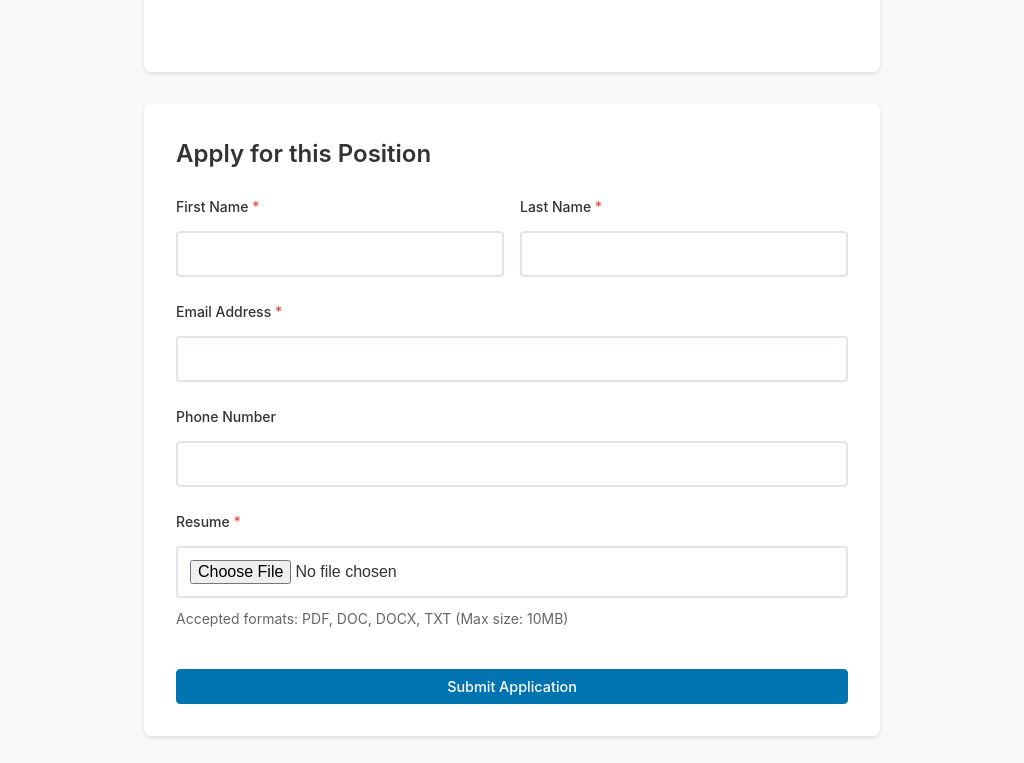
Test case: ApplicantPortal › should clear errors when user starts typing
(page scrolled)
expect the heading "Apply for this Position" is shown: met, box [176,139,431,168]
Trigger validation error
Click the button "Submit Application" at (512, 686), box [176,669,848,704]
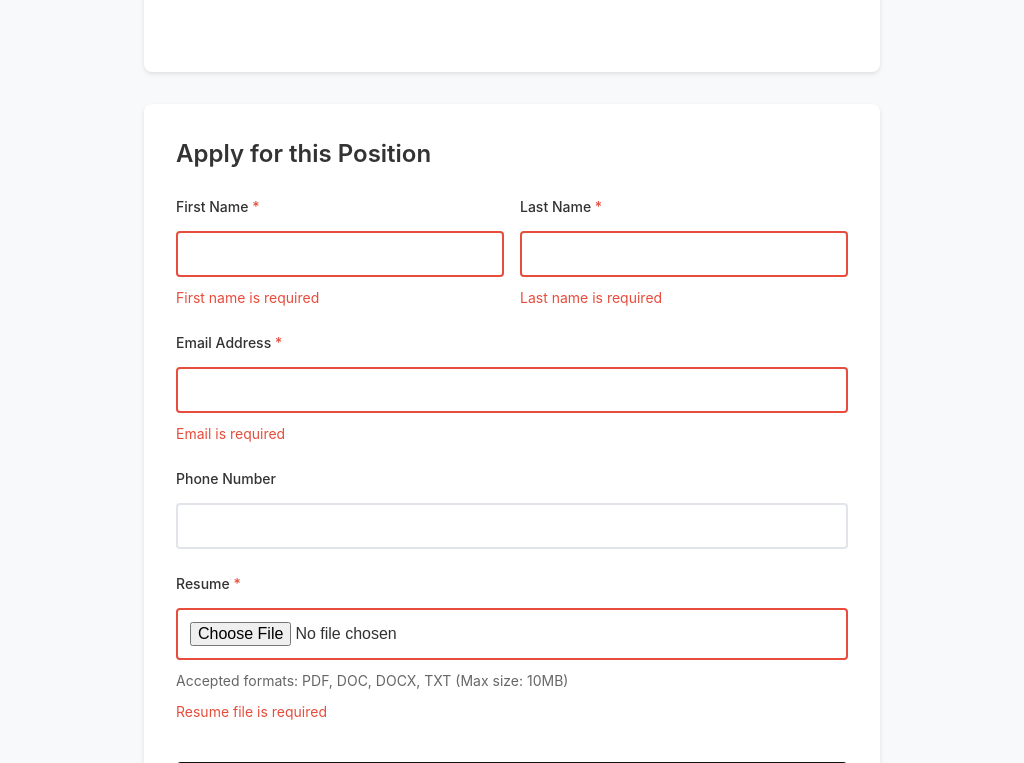
expect the text "First name is required" is shown: met, box [176,289,319,306]
Start typing to clear error
Type "J" into the field labelled "First Name *" at (340, 254), box [176,231,504,277]
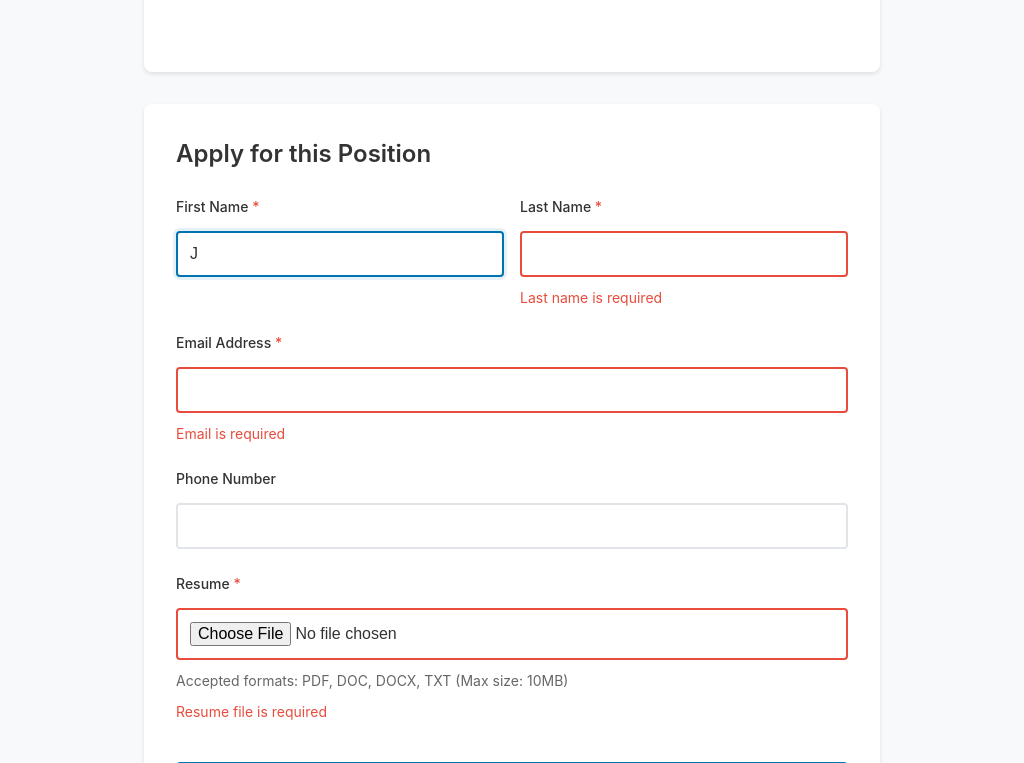
expect the text "First name is required" is gone: met
